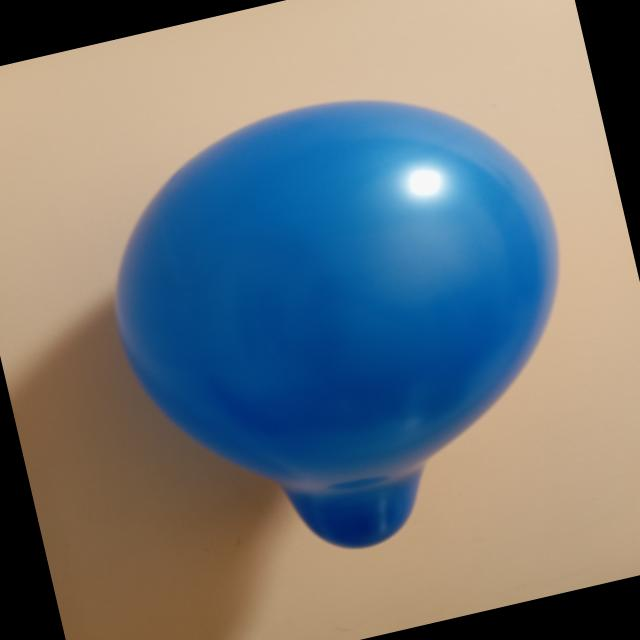balloon: (115, 101, 556, 547)
